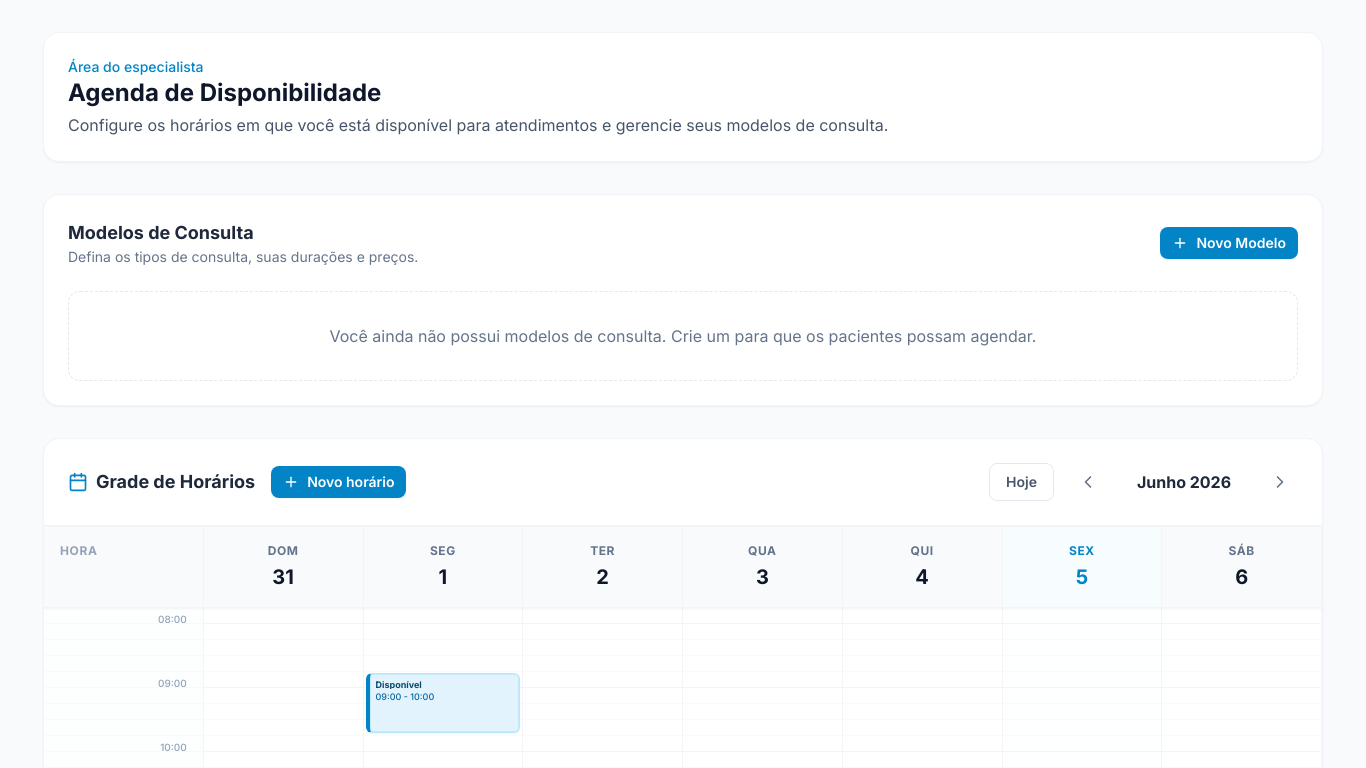
DoctorAgenda - Availability management › deve exibir erro se a hora de fim for antes ou igual a de início
(page scrolled)
Expected: the heading "Agenda de Disponibilidade" is shown, [68, 78, 381, 107]
Click the text "09:00 - 10:00": (405,696) [376, 691, 434, 702]
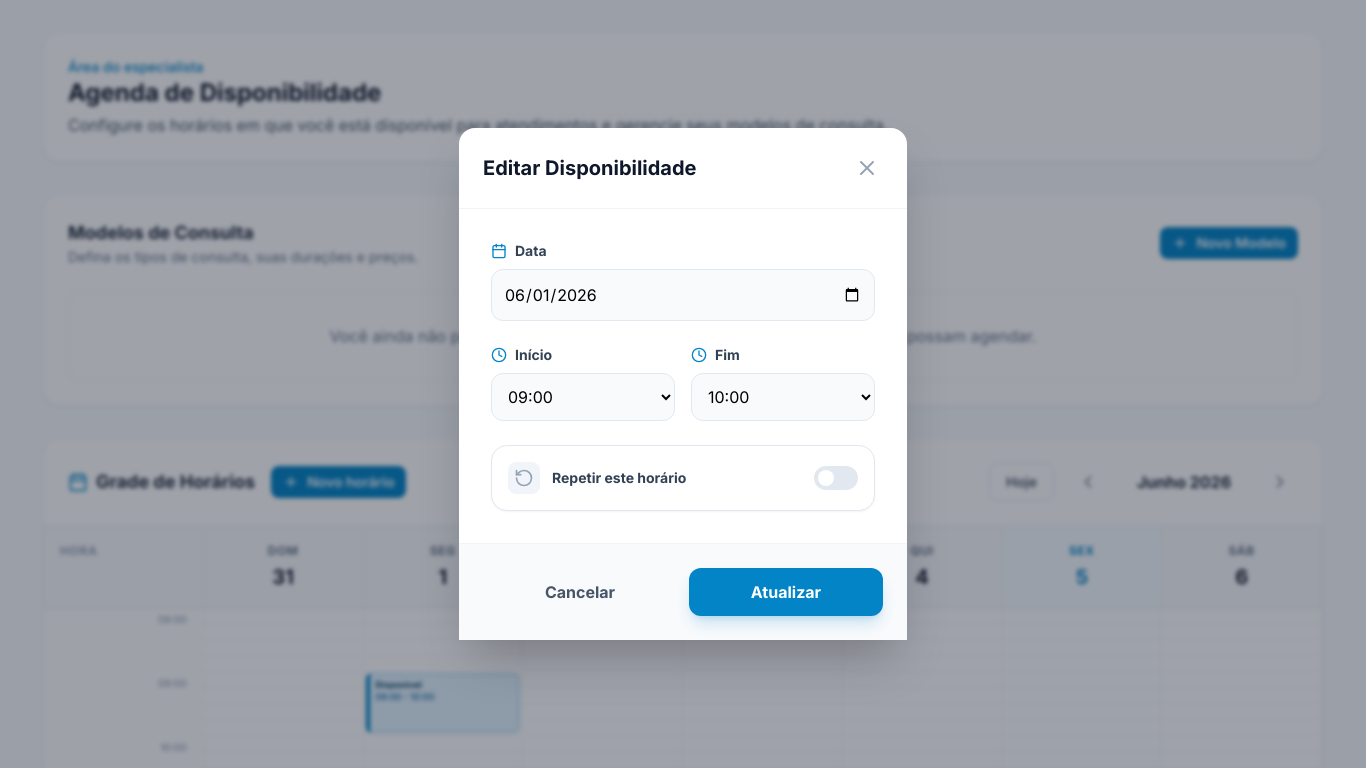
// Altera o horário de fim para ser igual ao de início
Select "09:00" in the dropdown labelled "Fim": (783,397) [691, 373, 875, 421]
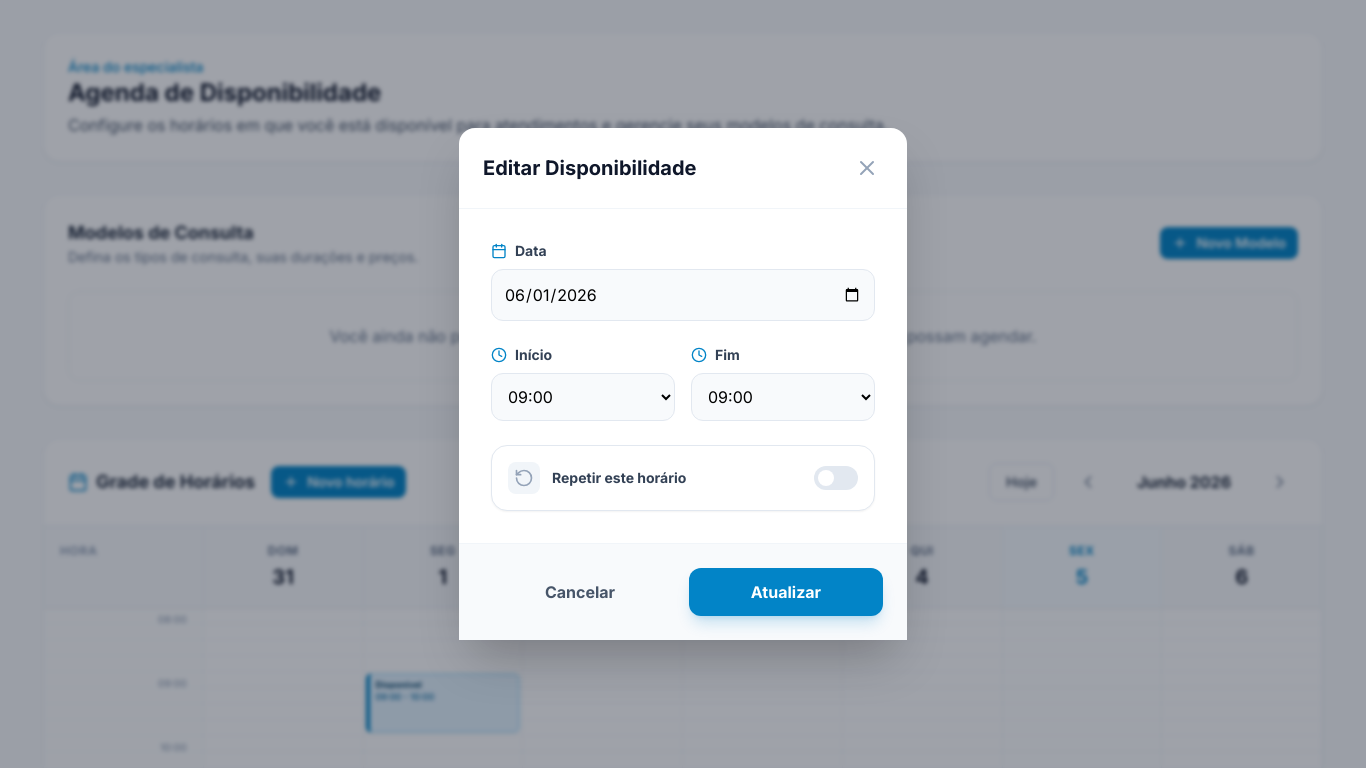
// Clica em atualizar
Click the button "Atualizar": (786,592) [689, 568, 883, 616]
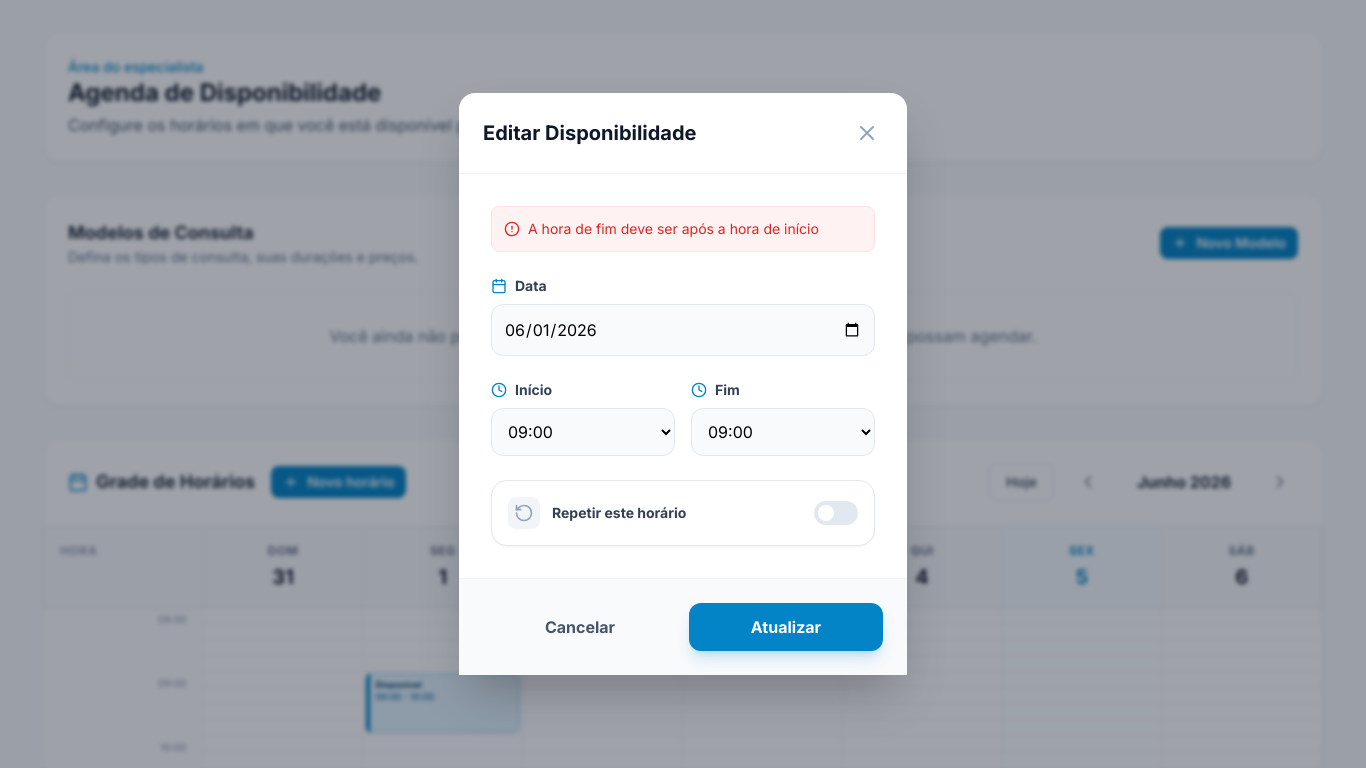
Expected: the text "A hora de fim deve ser após a hora de início" is shown, [491, 206, 875, 252]
